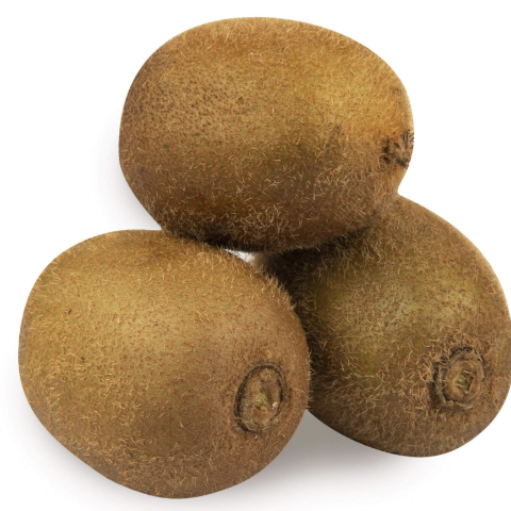kiwi: (1, 209, 340, 507), (89, 4, 419, 259), (240, 196, 503, 487)
